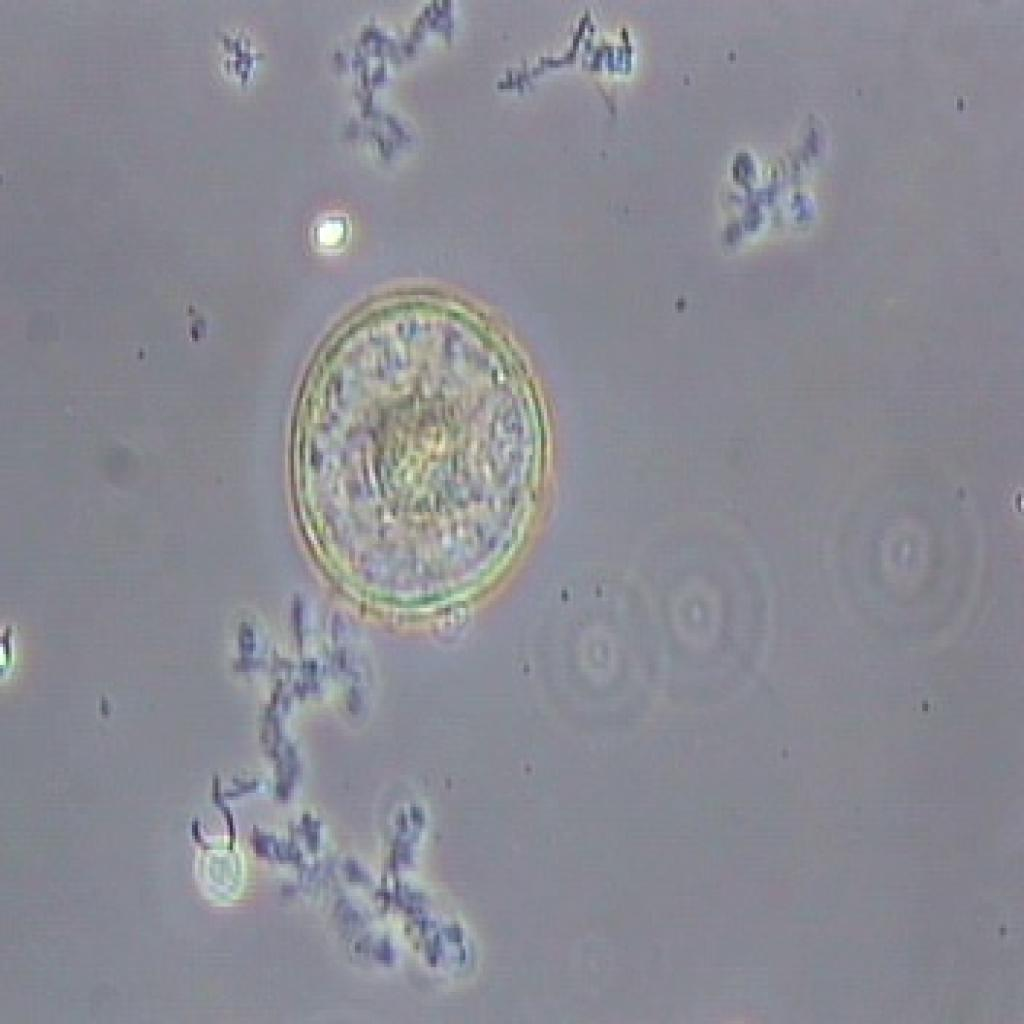Arcella: (282, 272, 556, 656)
